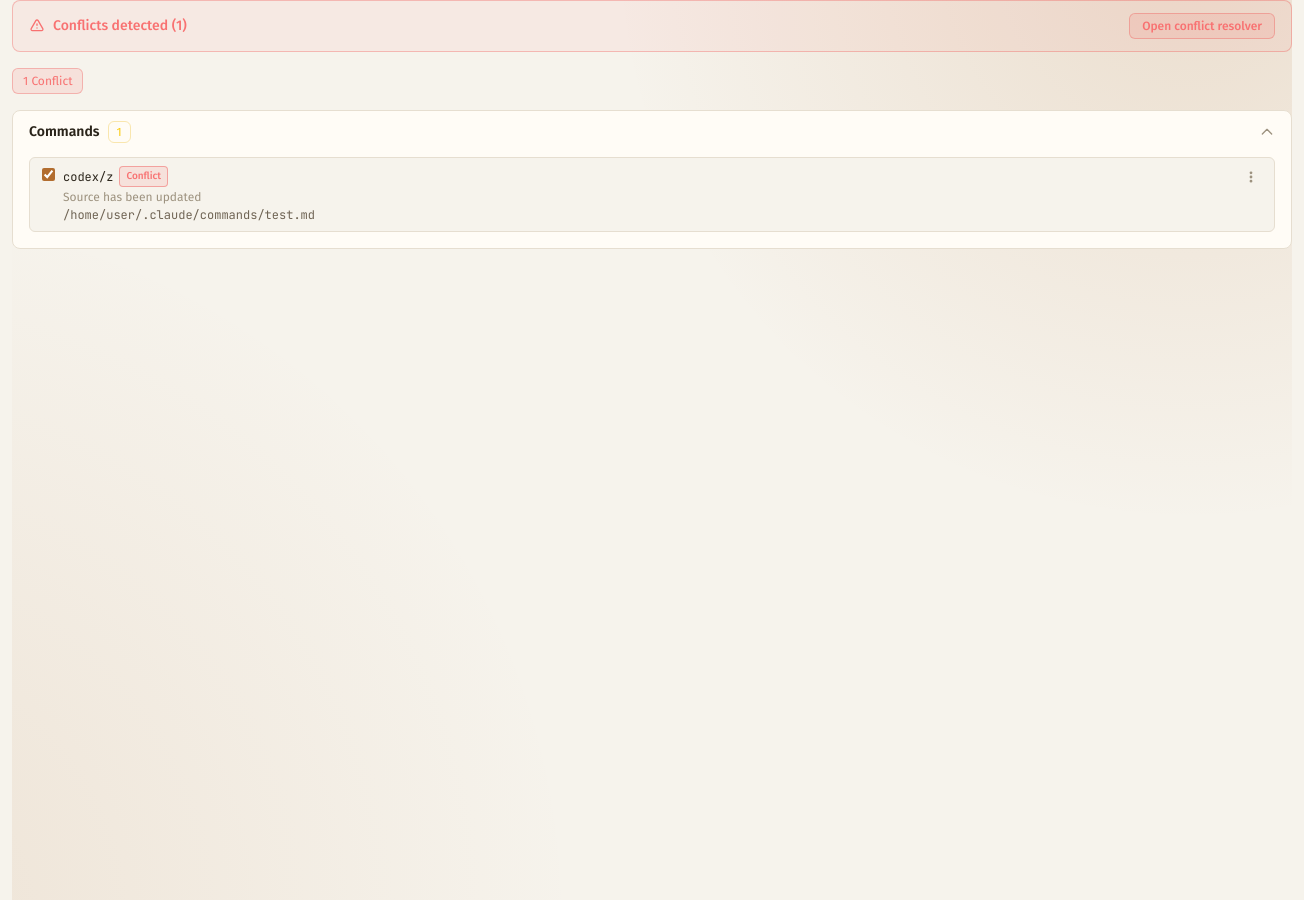
it: ReconcilePlanView — conflict banner › toggles conflict resolver on CTA click
Expected: the text "Use CK" is not shown
Click the button "Open conflict resolver". click: (1202, 26)
box: [1129,13,1275,39]
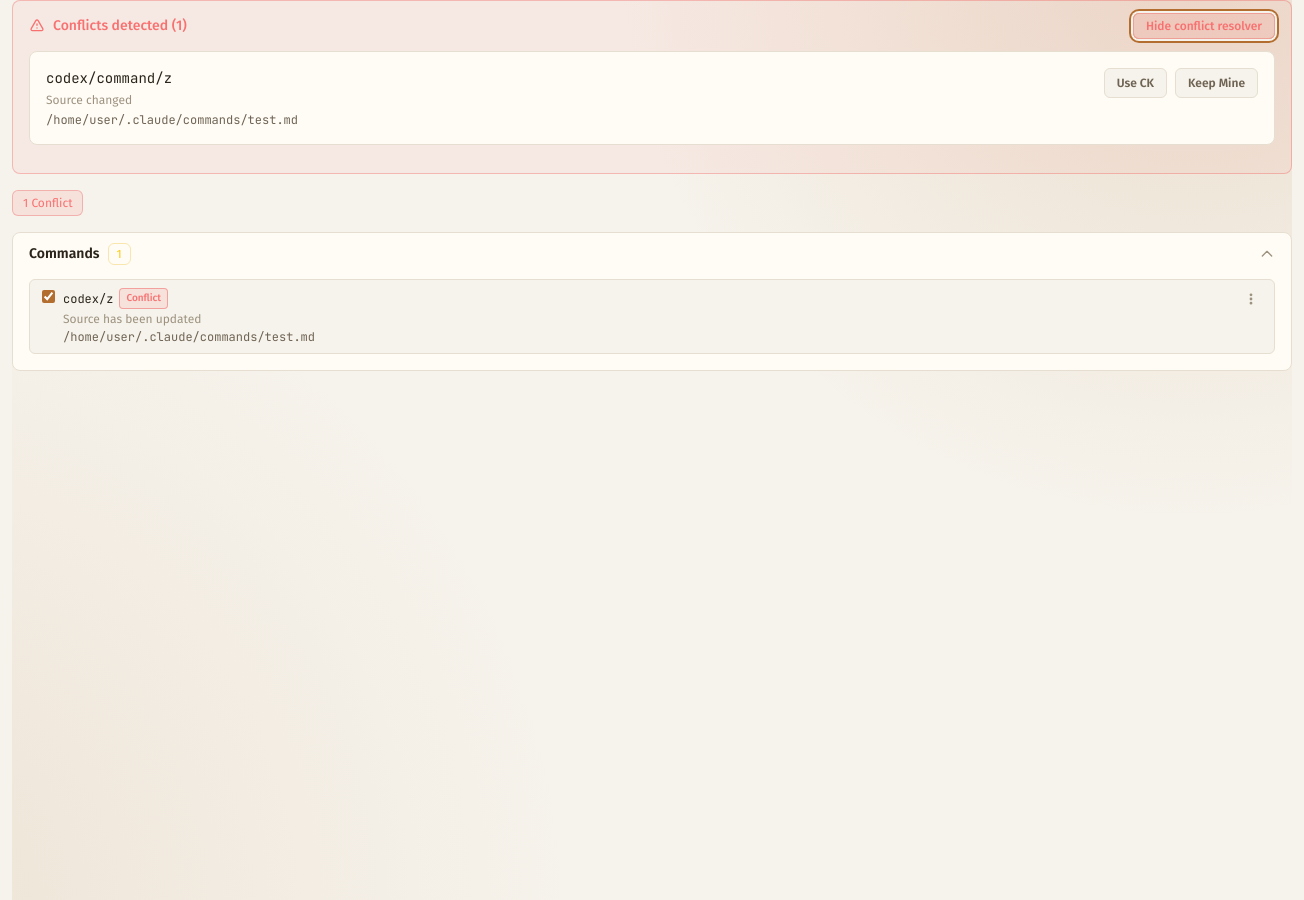
Expected: the button "Use CK" is shown, [1104,68,1167,98]
Click the button "Hide conflict resolver". click: (1204, 26)
box: [1133,13,1275,39]
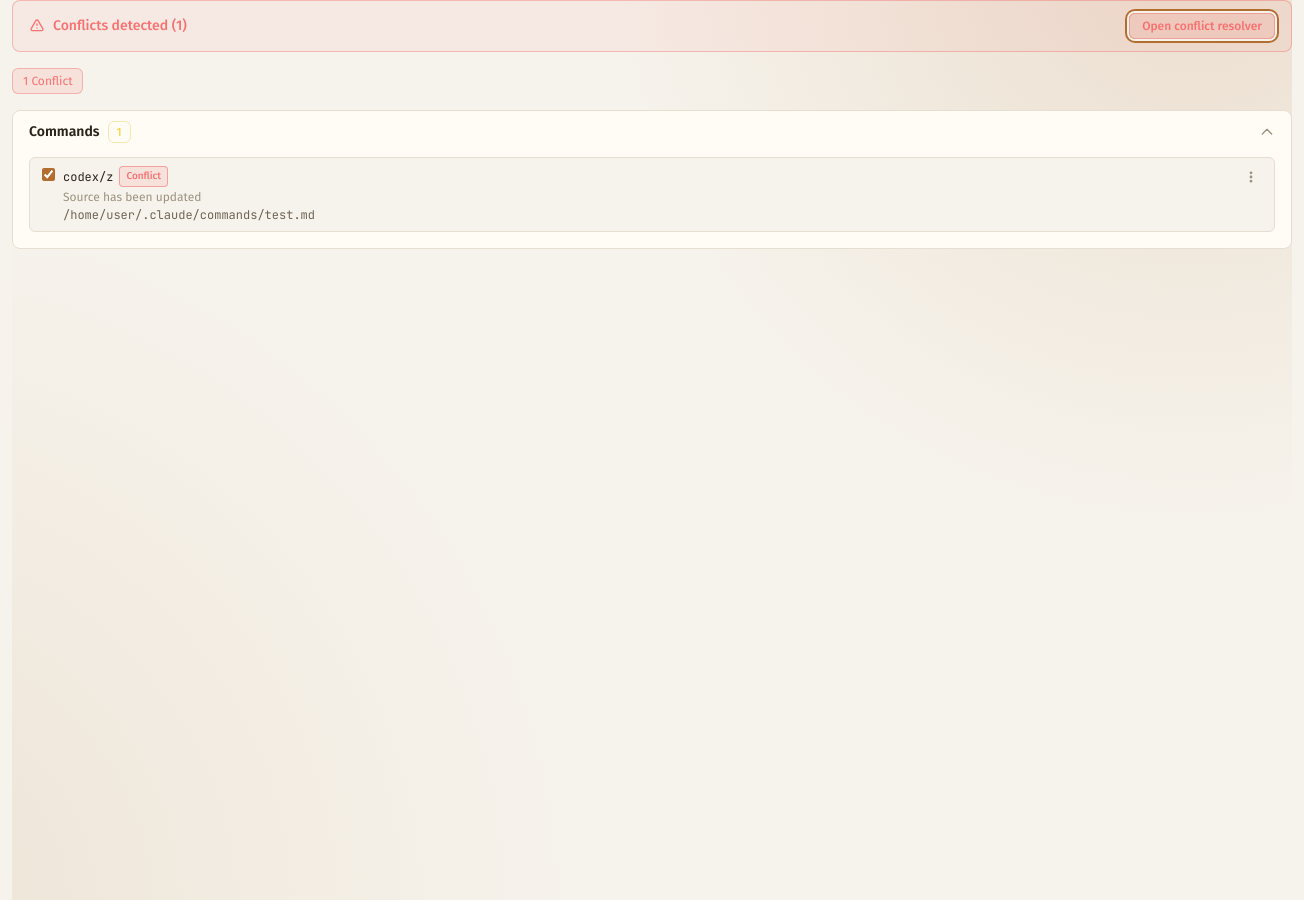
Expected: the button "Use CK" is gone
